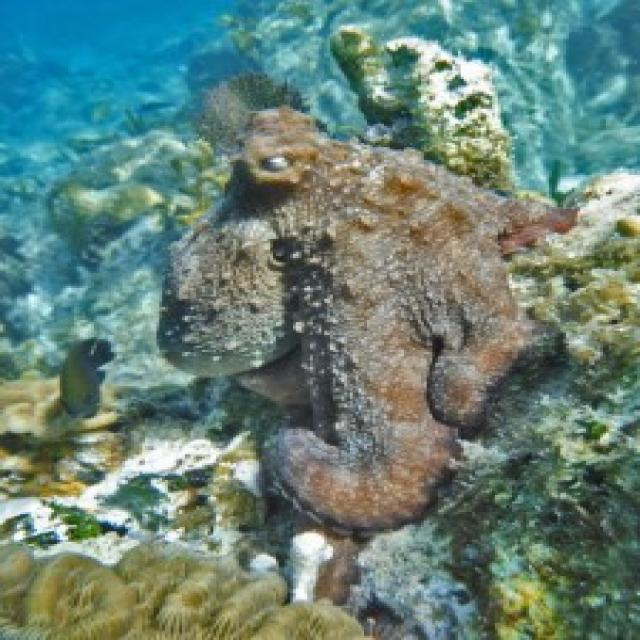Octo: (170, 109, 582, 522)
